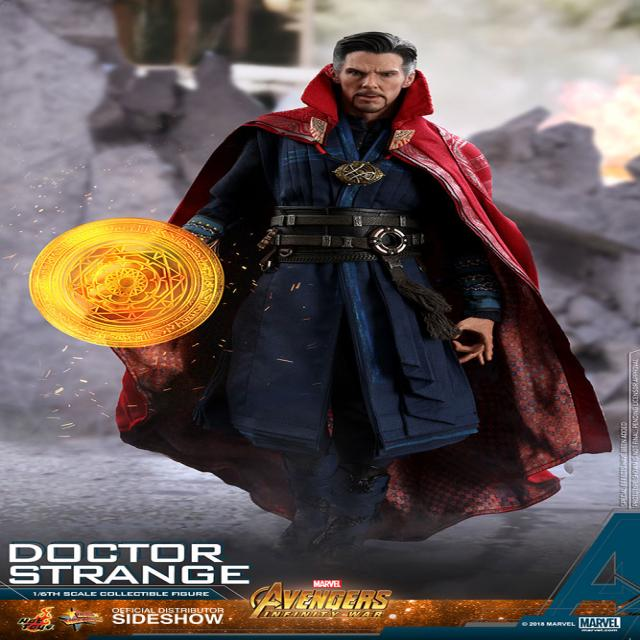doctor_strange: (158, 21, 548, 537)
